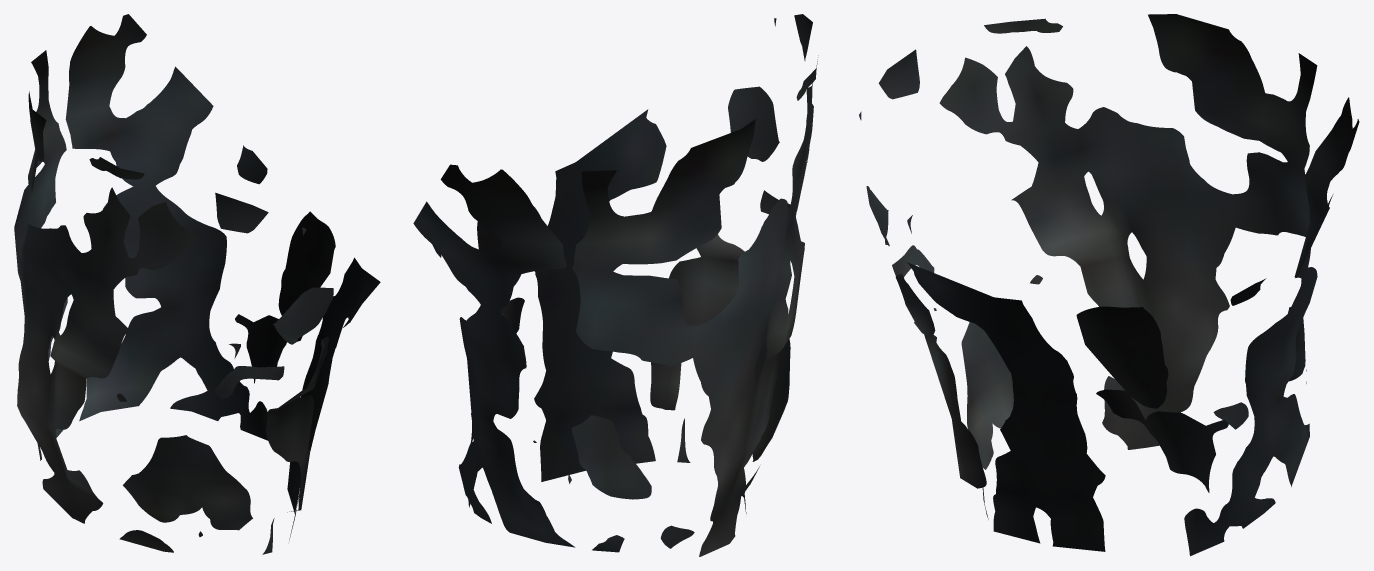
The model's file is TopRightLeg.obj.
The picture shows the model from 3 angles, left to right: view 1: azimuth 30°, elevation 25°; view 2: azimuth 150°, elevation 25°; view 3: azimuth 270°, elevation 25°; orthographic projection. The views are drawn at different scales.
Parts seen in each view (by area): view 1: rdmobj00.001; view 2: rdmobj00.001; view 3: rdmobj00.001.
Boxes of the visible parts, bbox=[...] form: rdmobj00.001: bbox=[14, 14, 380, 554]; rdmobj00.001: bbox=[413, 14, 818, 556]; rdmobj00.001: bbox=[859, 14, 1359, 556].
Size of the model in its own units: 0.8989 by 1.31 by 1.39.
Materials: 1 (1 with a texture image).
